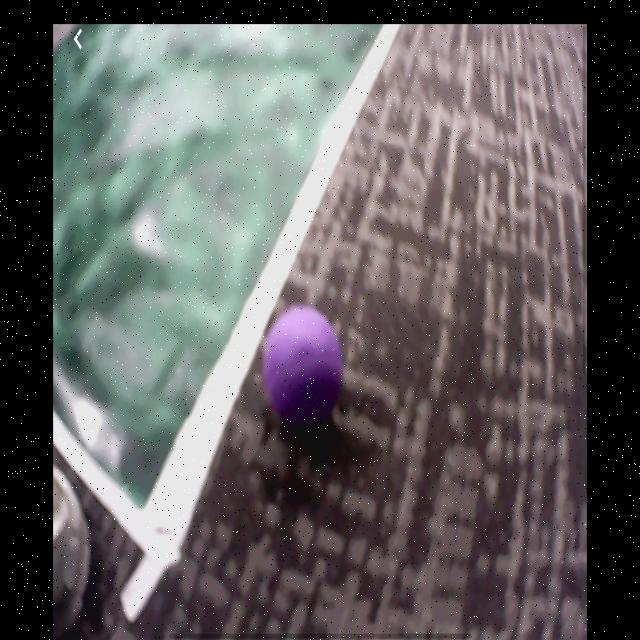ball: (266, 309, 341, 416)
